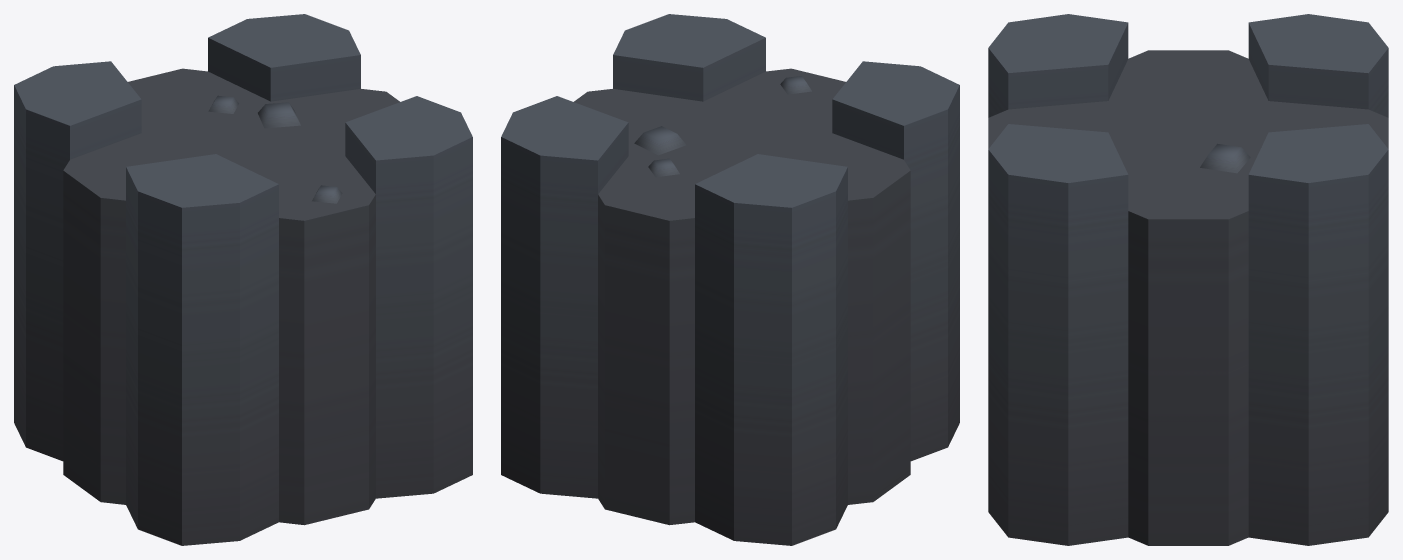
Rendered from rocks.glb.
3 views of the same model, side by side, from view 1: azimuth 30°, elevation 25°; view 2: azimuth 150°, elevation 25°; view 3: azimuth 270°, elevation 25° (orthographic). The views are drawn at different scales.
Parts seen in each view (by area): view 1: rocks-high; view 2: rocks-high; view 3: rocks-high.
Boxes of the visible parts, x1,y1,x2,y2 form: rocks-high: (14,14,472,545); rocks-high: (501,14,959,545); rocks-high: (988,14,1388,545).
Size of the model in its own units: 1 by 1 by 1.
1 material, 1 textured.
